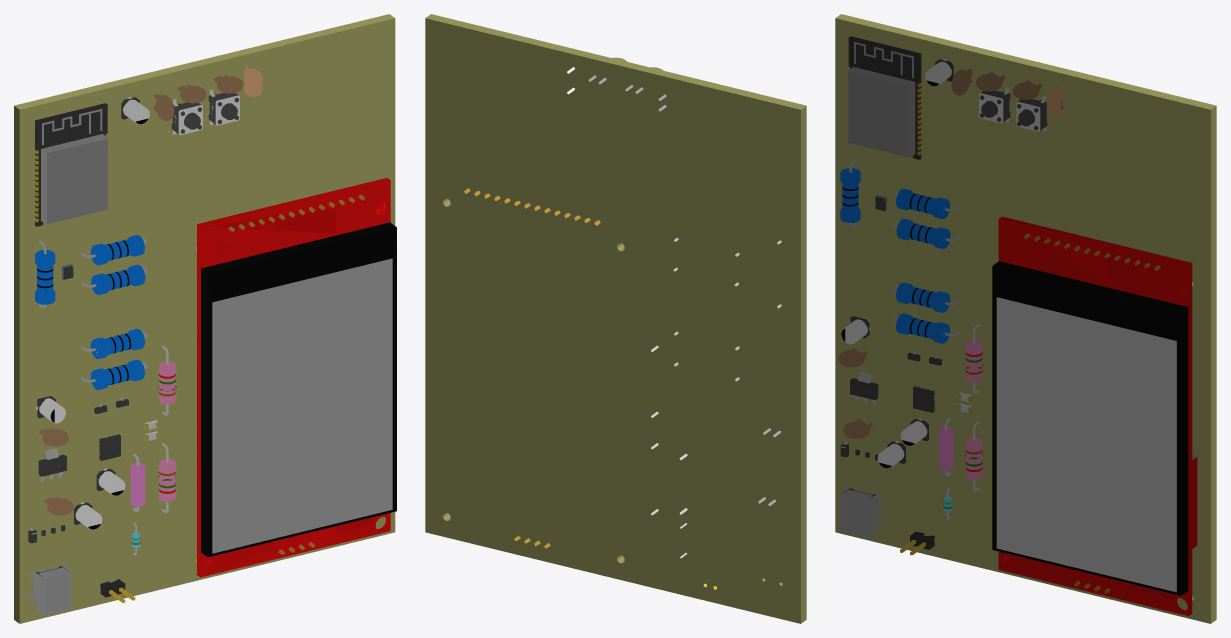
Rendered from PCB.obj.
3 views of the same model, side by side, from view 1: azimuth 30°, elevation 25°; view 2: azimuth 150°, elevation 25°; view 3: azimuth 330°, elevation 25° (orthographic).
Bounding box in the file's own units: 375 × 491 × 53.05.
